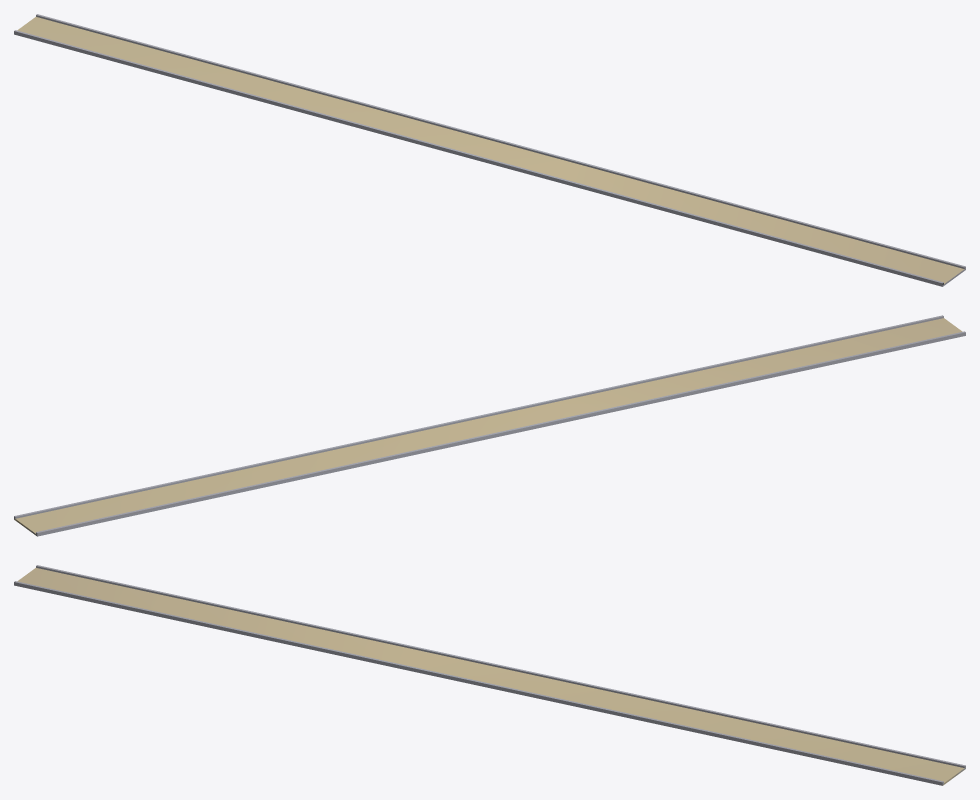
File: sidewalk_06.fbx
The picture shows the model from 3 angles, top to bottom: view 1: azimuth 90°, elevation 25°; view 2: azimuth 150°, elevation 25°; view 3: azimuth 270°, elevation 25°; orthographic projection.
Parts seen in each view (by area): view 1: sidewalk_05; view 2: sidewalk_05; view 3: sidewalk_05.
Part boxes in pixels (bbox=[...]): sidewalk_05: bbox=[14, 14, 965, 286]; sidewalk_05: bbox=[14, 315, 965, 536]; sidewalk_05: bbox=[14, 565, 965, 785].
Size of the model in its own units: 4.06 by 0.2294 by 6.71.
1 material, 1 textured.
